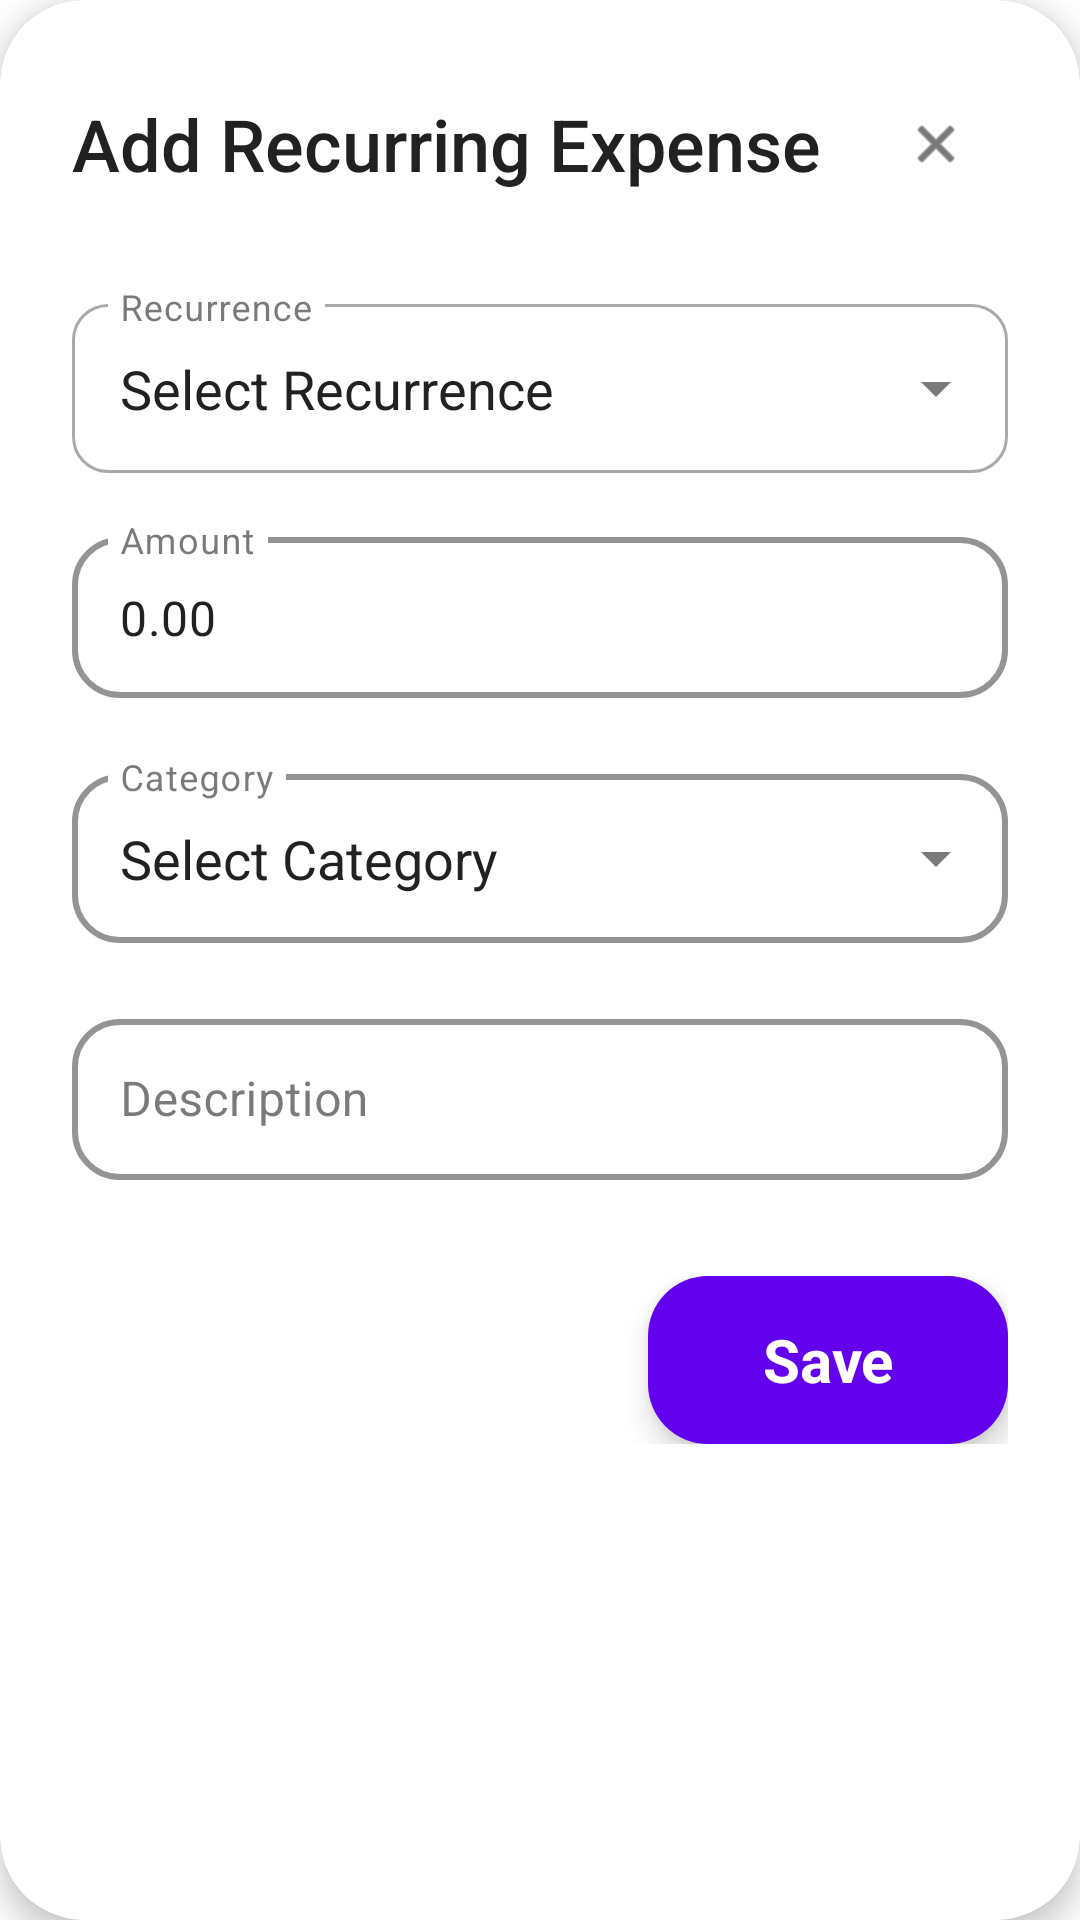

Screen size 1080*1920. Icon name, then its center in pixels as point (x, y):
close clear cancel: point (936, 144)
